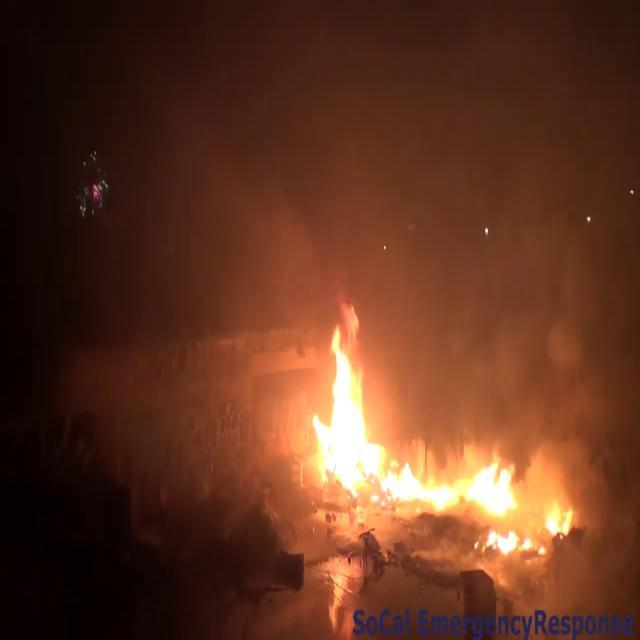Fire: (298, 311, 570, 557)
Smoke: (281, 0, 640, 412)
